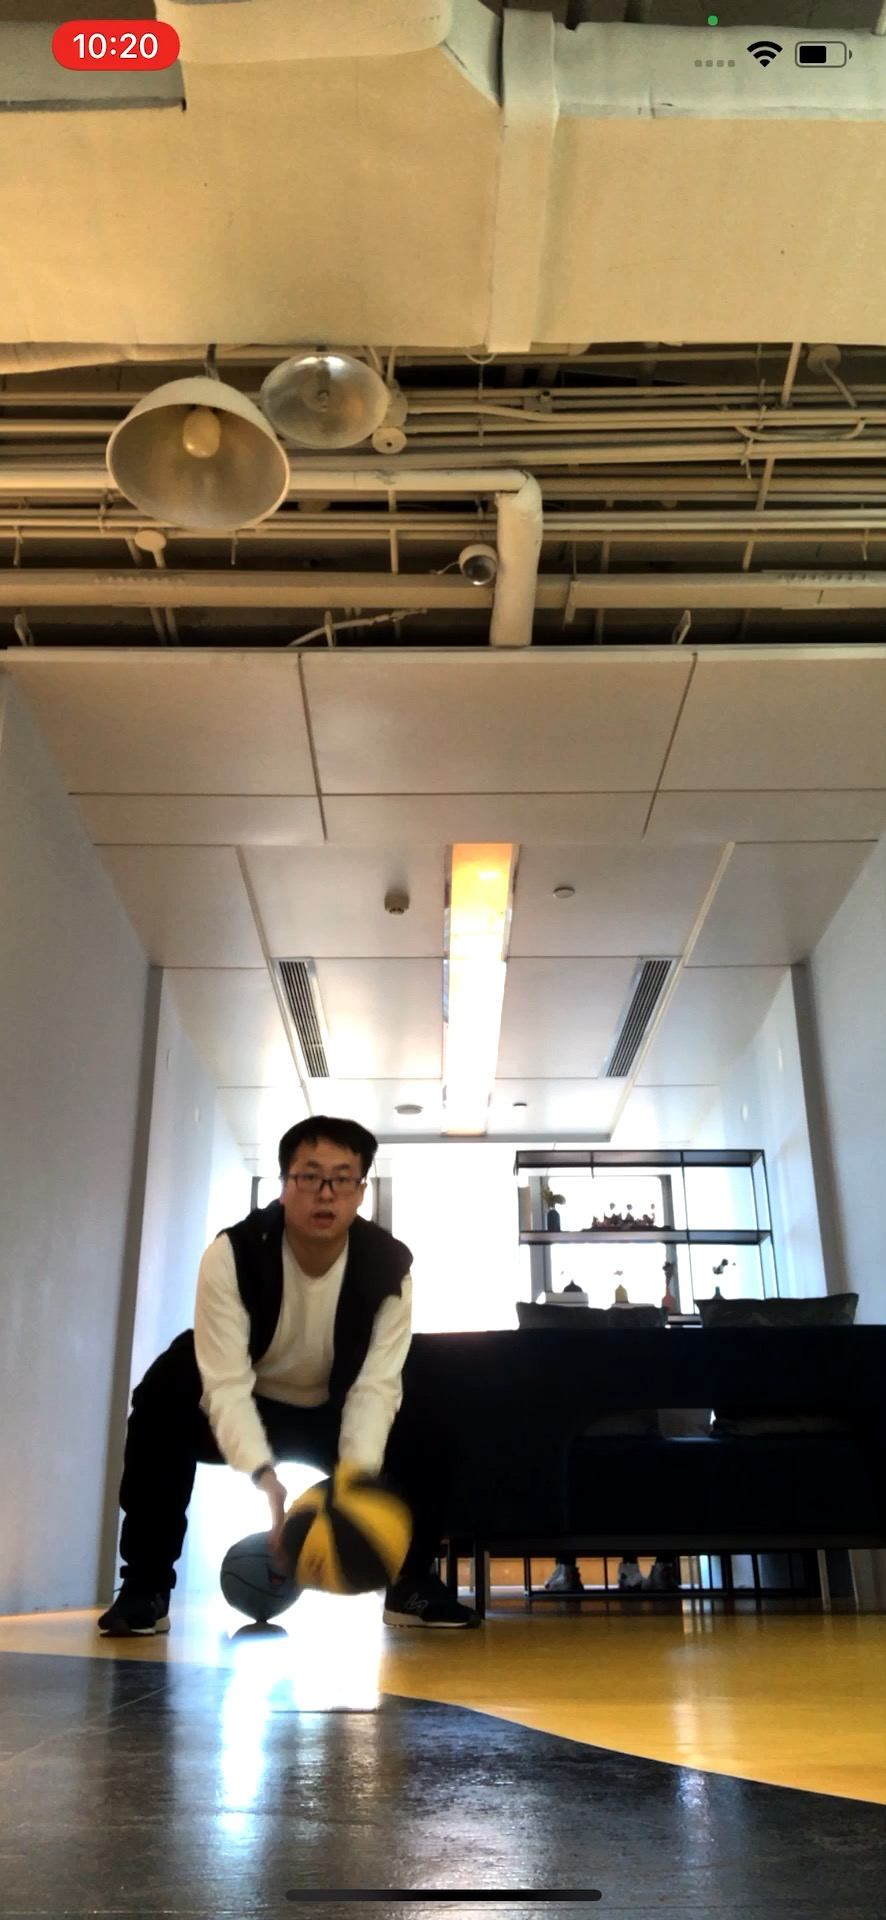ball: (278, 1478, 412, 1600)
